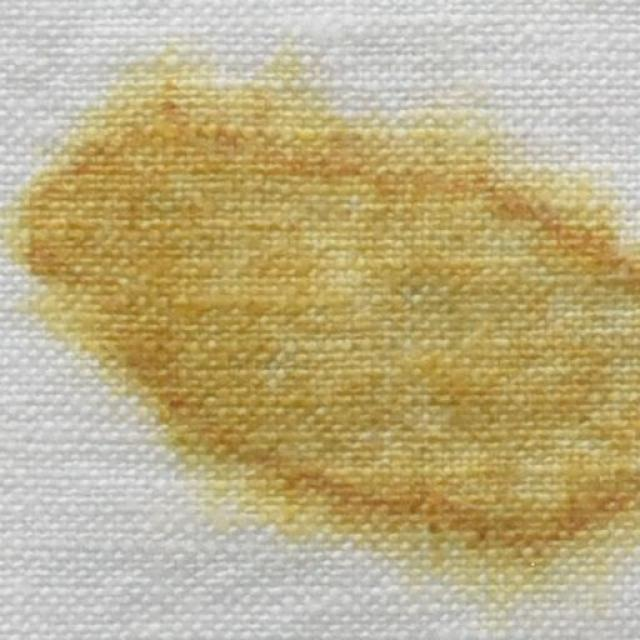Stain: (0, 50, 640, 618)
